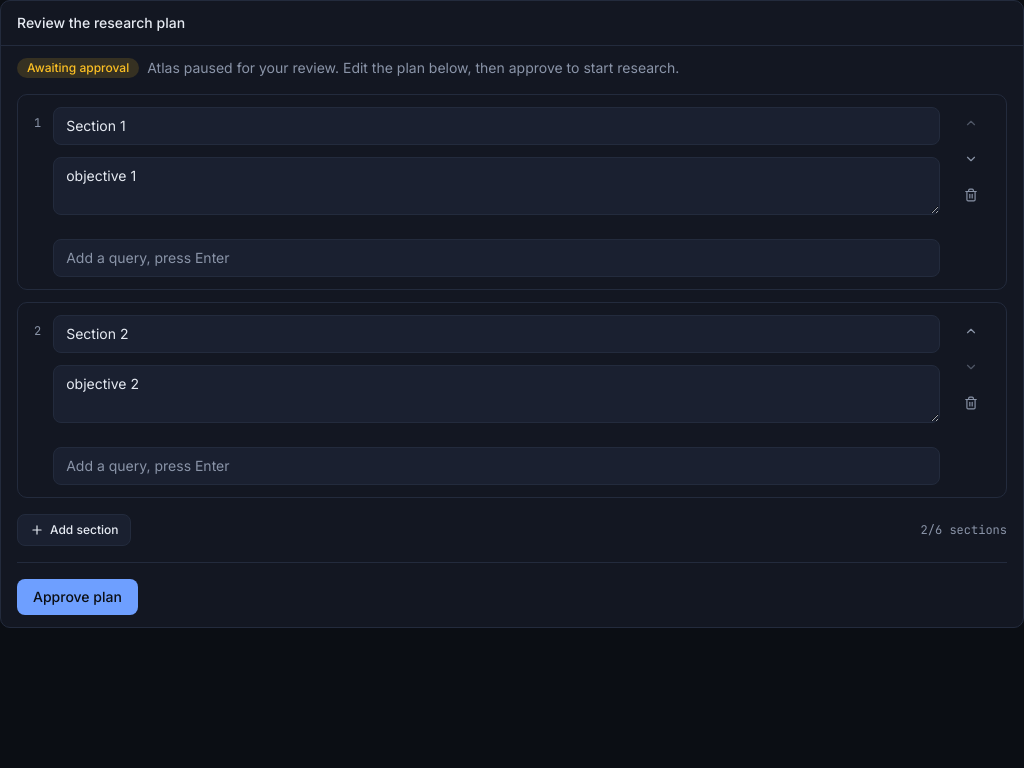
Test: PlanApprovalPanel › disables the controls while the resume is pending
The width and height of the screenshot is (1024, 768).
Click the button "Approve plan" at (77, 597), box [17, 579, 138, 615]
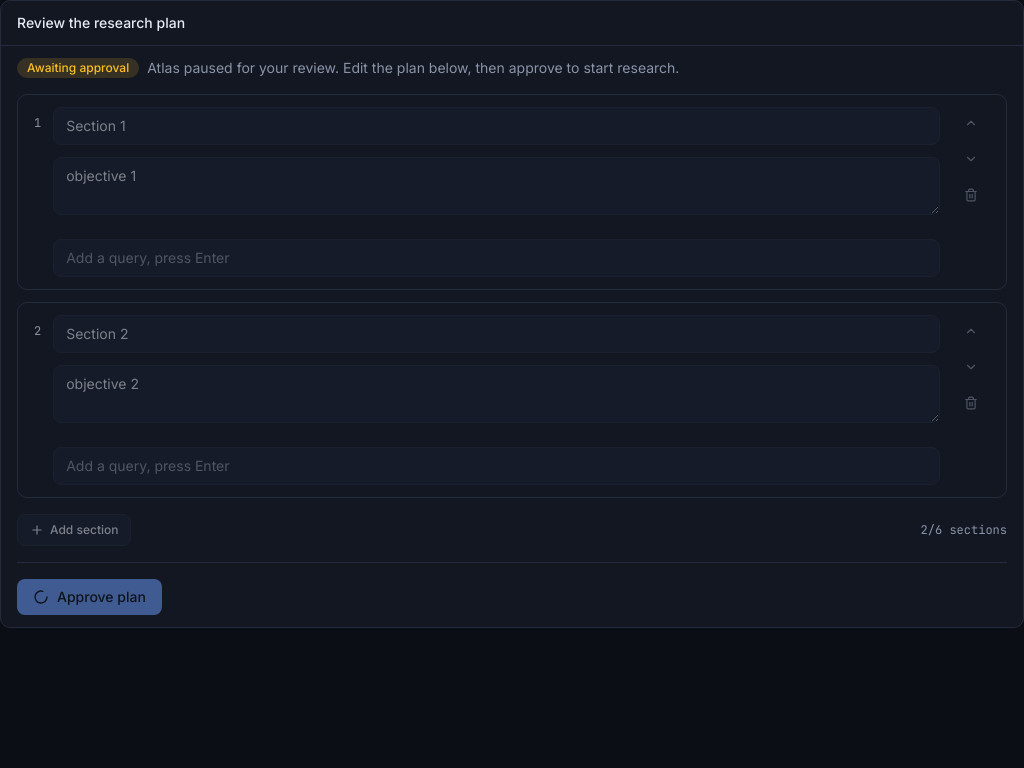
Check: the button "Approve plan" is disabled, box [17, 579, 162, 615]
Check: the icon with class "animate-spin" is shown, box [33, 589, 49, 605]
Check: the field named "Section 1 title" is disabled, box [53, 107, 940, 145]
